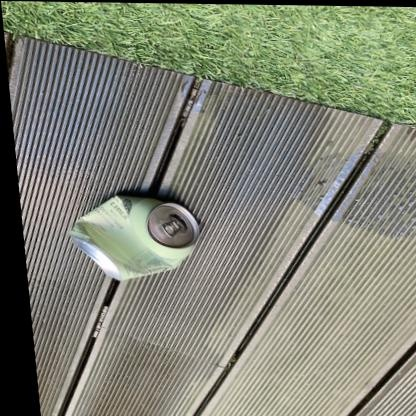trash: (70, 196, 198, 279)
